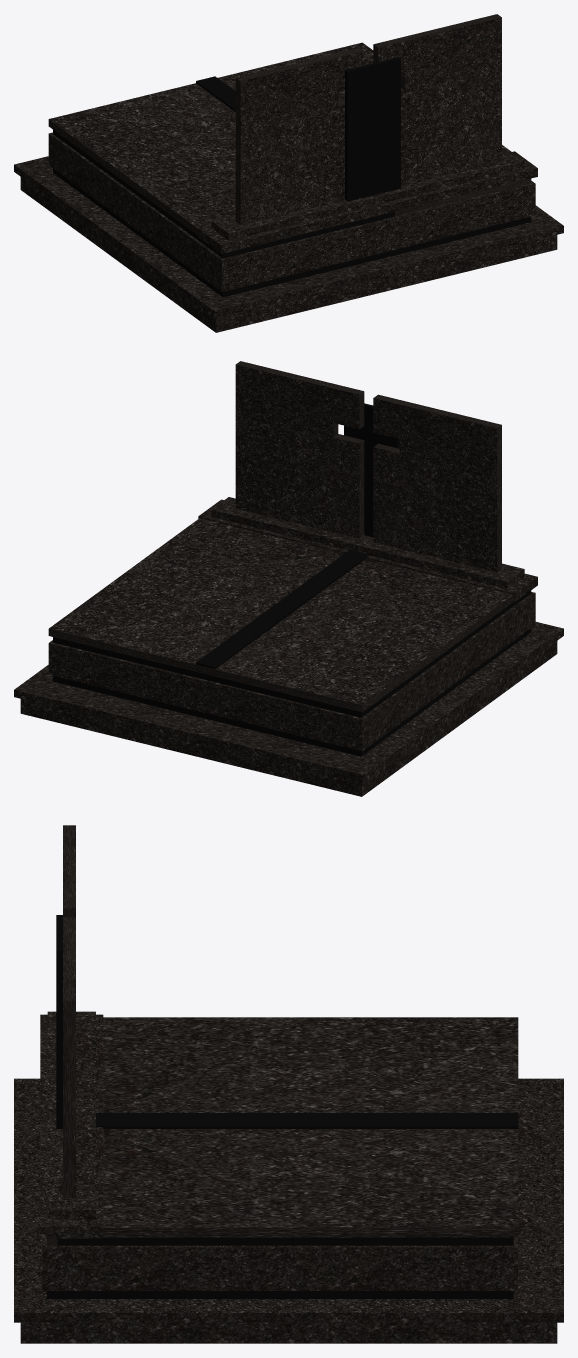
3 views of the same model, one above another, from view 1: azimuth 30°, elevation 25°; view 2: azimuth 150°, elevation 25°; view 3: azimuth 270°, elevation 25° (orthographic). The views are drawn at different scales.
Parts seen in each view (by area): view 1: Object_2_wQAoSs, Object_2_wQAekk; view 2: Object_2_wQAoSs, Object_2_wQAekk; view 3: Object_2_wQAoSs, Object_2_wQAekk.
Boxes of the visible parts, left/top/right/bottom form: Object_2_wQAoSs: left=14, top=14, right=563, bottom=332; Object_2_wQAekk: left=53, top=57, right=531, bottom=297; Object_2_wQAoSs: left=14, top=361, right=563, bottom=796; Object_2_wQAekk: left=53, top=403, right=531, bottom=756; Object_2_wQAoSs: left=14, top=825, right=563, bottom=1343; Object_2_wQAekk: left=46, top=915, right=518, bottom=1298.
Size of the model in its own units: 2540 by 1600 by 2520.
2 materials, 1 textured.
